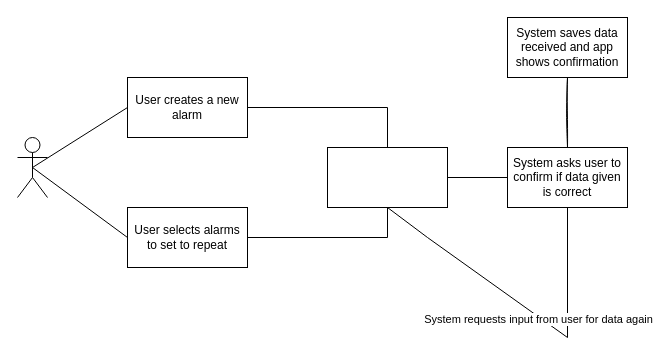
Image size: 670x356. Some labels were removed from this diagram. Each missing label, with the box of its shape:
User: (16, 136, 48, 198)
User configures when and at what frequency alarms should be triggered: (326, 146, 448, 208)
